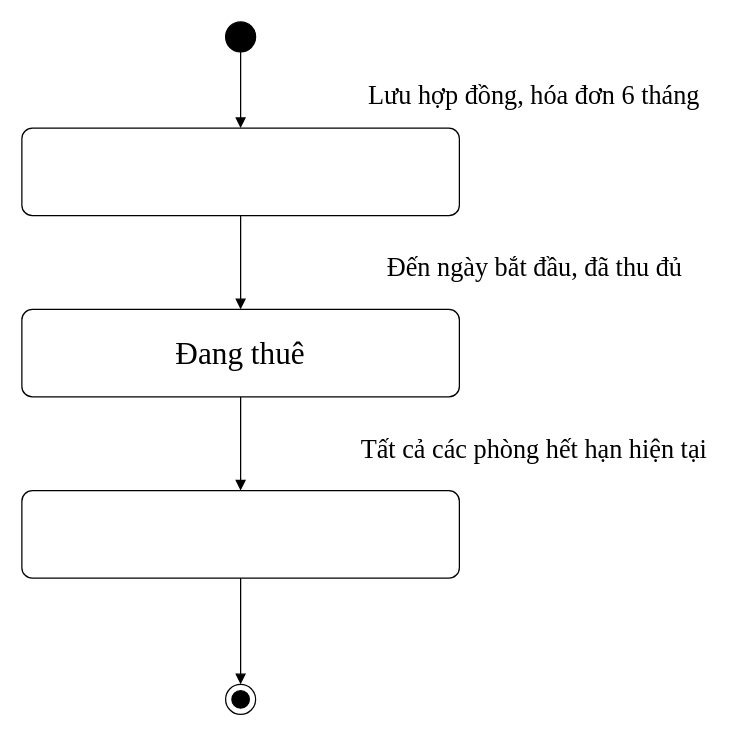
This 738x736 diagram has some shape labels left out. Each missing label, with the box of its shape:
Chờ bắt đầu thuê: (21, 127, 459, 216)
Kết thúc thuê: (21, 489, 459, 578)
